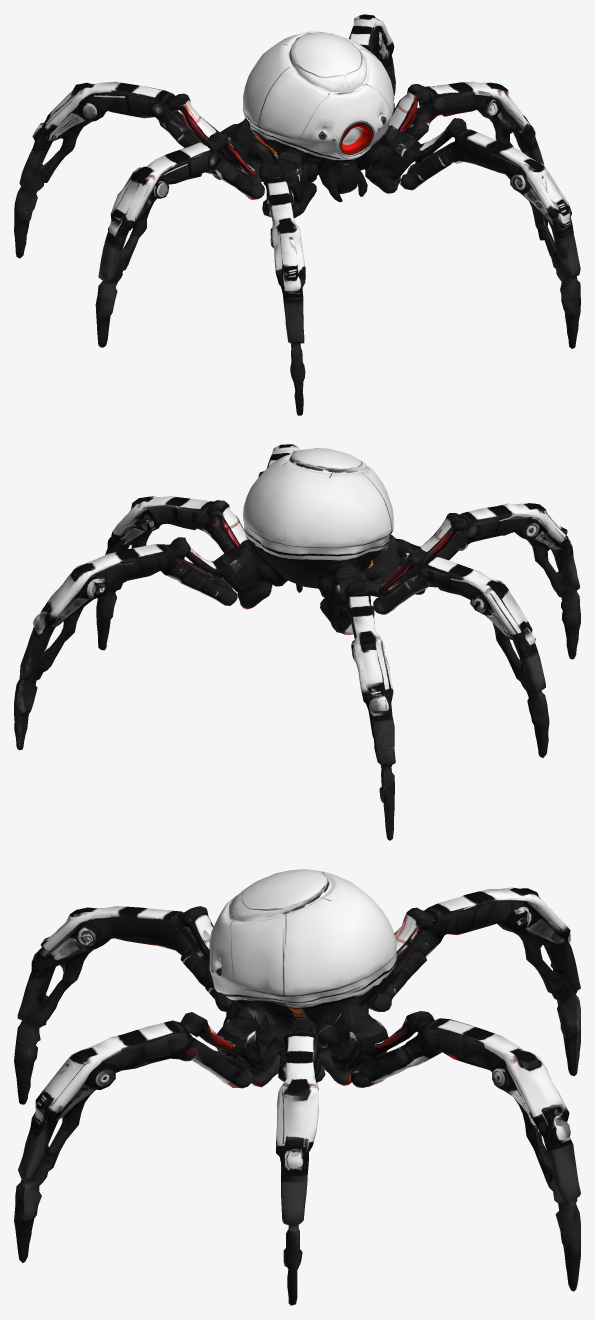
Rendered from spider_enemy.glb.
The picture shows the model from 3 angles, top to bottom: view 1: azimuth 30°, elevation 25°; view 2: azimuth 150°, elevation 25°; view 3: azimuth 270°, elevation 25°; orthographic projection. The views are drawn at different scales.
Bounding box in the file's own units: 1.91 × 1.04 × 1.75.
Materials: 1 (1 with a texture image).
